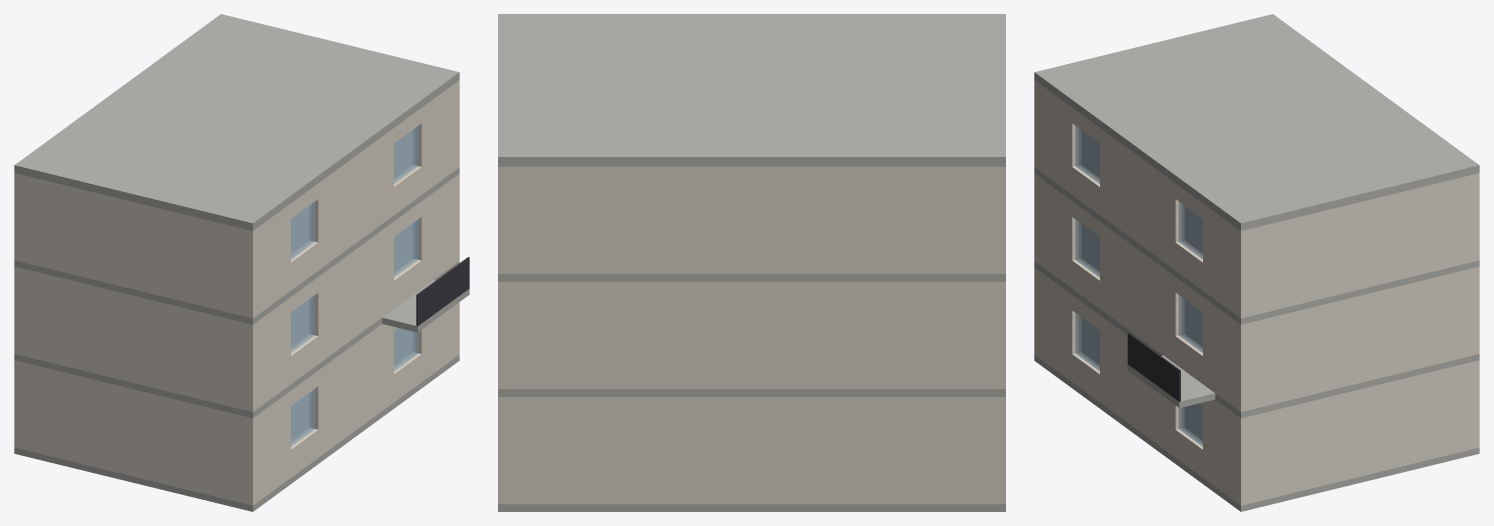
Rendered from TEST-ifc-building.glb.
3 views of the same model, side by side, from view 1: azimuth 30°, elevation 25°; view 2: azimuth 150°, elevation 25°; view 3: azimuth 270°, elevation 25° (orthographic). The views are drawn at different scales.
Parts seen in each view (by area): view 1: floor_3, floor_2, floor_1, unit_TEST-301, unit_TEST-101, unit_TEST-202, unit_TEST-302, unit_TEST-201, unit_TEST-102; view 2: floor_3, floor_2, floor_1; view 3: floor_3, floor_2, floor_1, unit_TEST-101, unit_TEST-201, unit_TEST-301, unit_TEST-202, unit_TEST-302, unit_TEST-102.
Part boxes in pixels (<box>): floor_3: <box>14,14,459,324</box>; floor_2: <box>14,174,469,418</box>; floor_1: <box>14,302,459,511</box>; unit_TEST-301: <box>291,201,315,259</box>; unit_TEST-101: <box>291,388,315,446</box>; unit_TEST-202: <box>394,219,418,277</box>; unit_TEST-302: <box>394,126,418,183</box>; unit_TEST-201: <box>291,295,315,352</box>; unit_TEST-102: <box>394,328,418,370</box>; floor_3: <box>498,14,1005,281</box>; floor_2: <box>498,281,1005,396</box>; floor_1: <box>498,397,1005,511</box>; floor_3: <box>1034,14,1479,324</box>; floor_2: <box>1034,174,1479,418</box>; floor_1: <box>1034,267,1479,511</box>; unit_TEST-101: <box>1075,313,1099,371</box>; unit_TEST-201: <box>1075,219,1099,277</box>; unit_TEST-301: <box>1075,126,1099,183</box>; unit_TEST-202: <box>1178,295,1202,352</box>; unit_TEST-302: <box>1178,202,1202,259</box>; unit_TEST-102: <box>1178,403,1202,446</box>.
Size of the model in its own units: 14.39 by 9.25 by 12.93.
